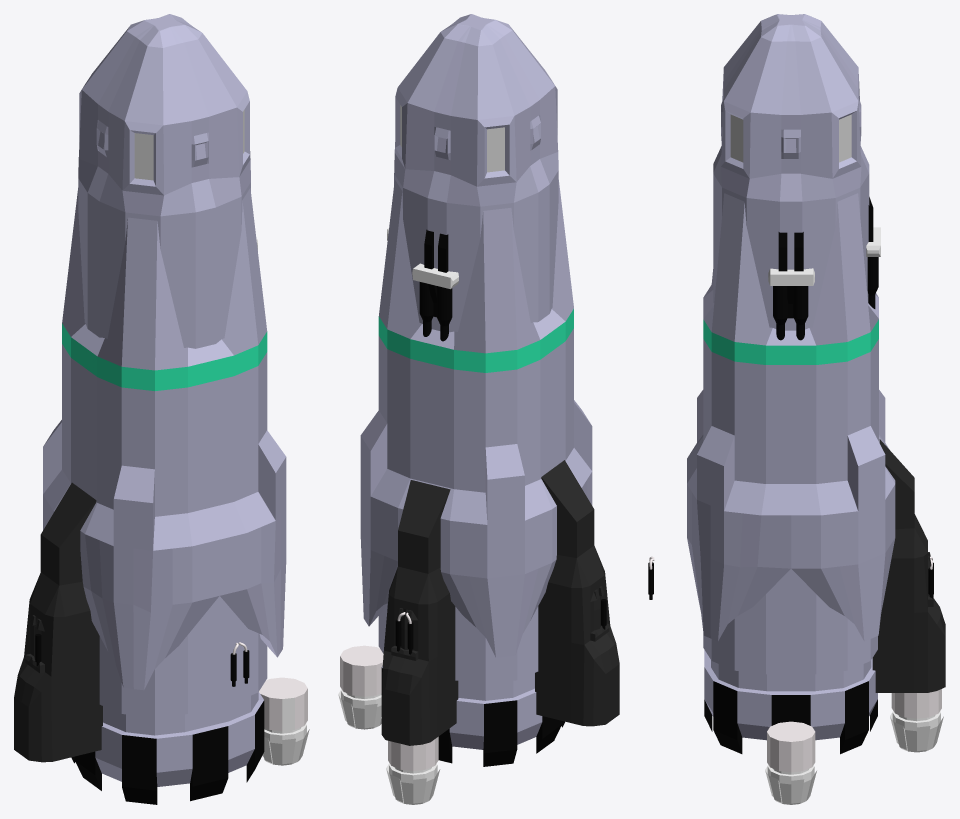
The model's file is SavitirII_gray.gltf.
3 views of the same model, side by side, from view 1: azimuth 30°, elevation 25°; view 2: azimuth 150°, elevation 25°; view 3: azimuth 270°, elevation 25° (orthographic). The views are drawn at different scales.
Parts seen in each view (by area): view 1: Body, ThrusterPipe; view 2: Body, ThrusterPipe, ThrusterPipe2, CockpitPipes; view 3: Body, ThrusterPipe2, ThrusterPipe, CockpitPipes2, CockpitPipes.
Part boxes in pixels (<box>): Body: <box>43,14,286,804</box>; ThrusterPipe: <box>14,482,309,765</box>; Body: <box>360,14,592,766</box>; ThrusterPipe: <box>338,460,619,729</box>; ThrusterPipe2: <box>381,480,458,804</box>; CockpitPipes: <box>412,229,458,341</box>; Body: <box>687,14,895,754</box>; ThrusterPipe2: <box>872,439,945,752</box>; ThrusterPipe: <box>765,721,816,804</box>; CockpitPipes2: <box>768,232,814,340</box>; CockpitPipes: <box>866,197,880,308</box>.
Size of the model in its own units: 22.09 by 56.79 by 21.13.
